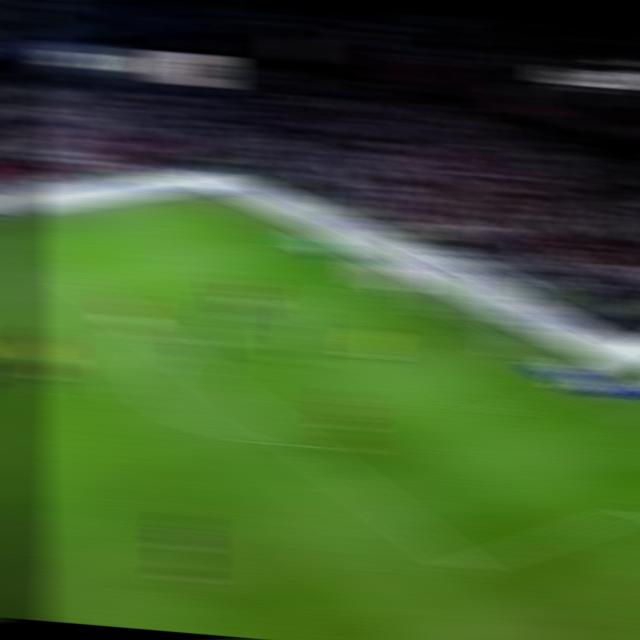bigarea_bottom_inner: (439, 547, 488, 583)
bigarea_top_inner: (57, 266, 105, 295)
bigarea_top_outter: (272, 235, 312, 253)
bottom_arc_area_intersection: (279, 429, 324, 457)
corner: (183, 189, 225, 206)
smallarea_bottom_inner: (475, 396, 518, 424)
smallarea_bottom_outter: (553, 382, 594, 401)
smallarea_top_inner: (294, 294, 334, 315)
smallarea_top_outter: (358, 280, 400, 300)
top_arc_area_intersection: (148, 331, 192, 359)
